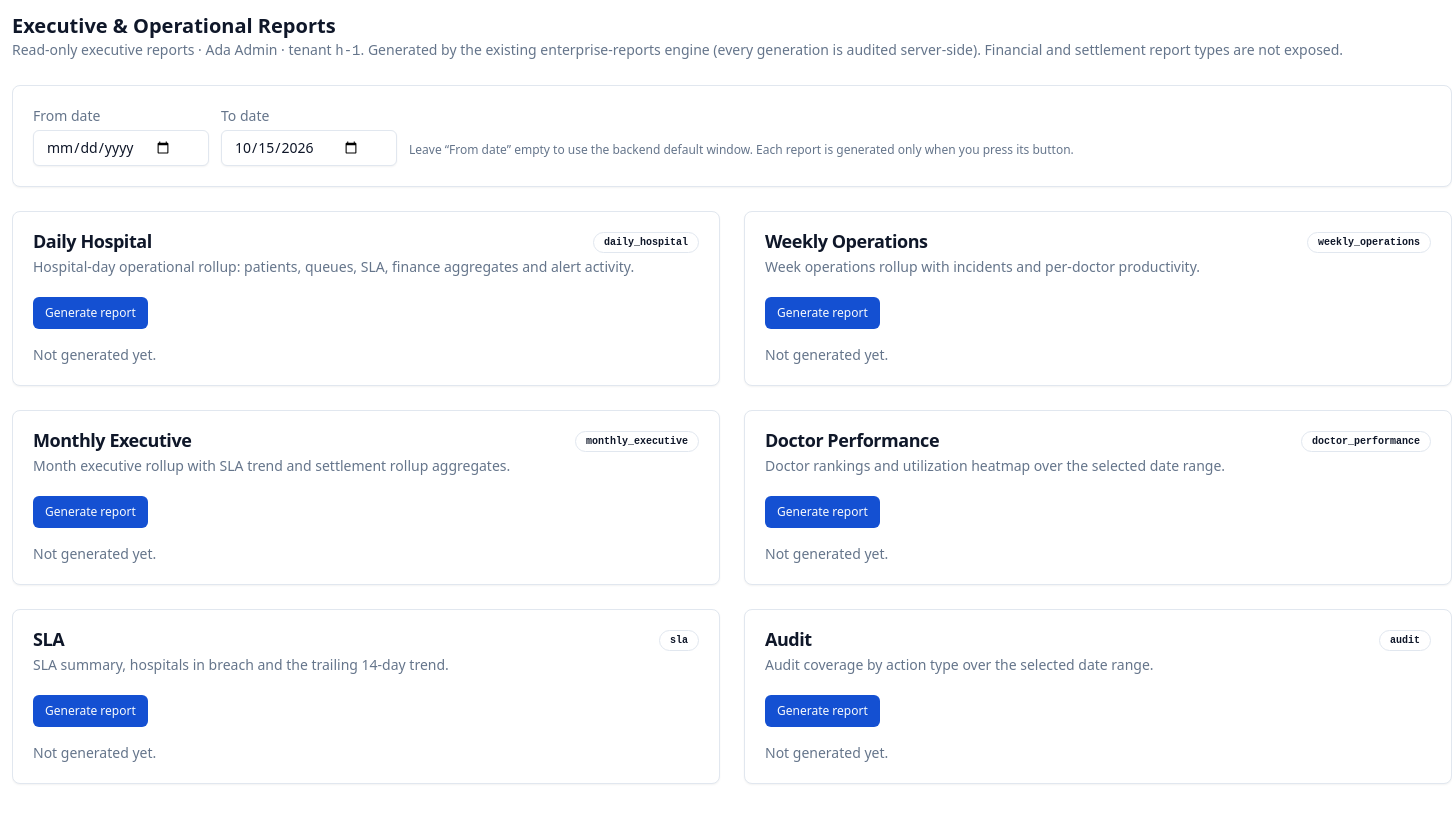
it: AdminReports viewer › an empty data object renders as 'No data', never a false value
The image size is (1452, 822).
Click the button "Generate report" below "Daily Hospital": (90, 313) [33, 297, 148, 329]
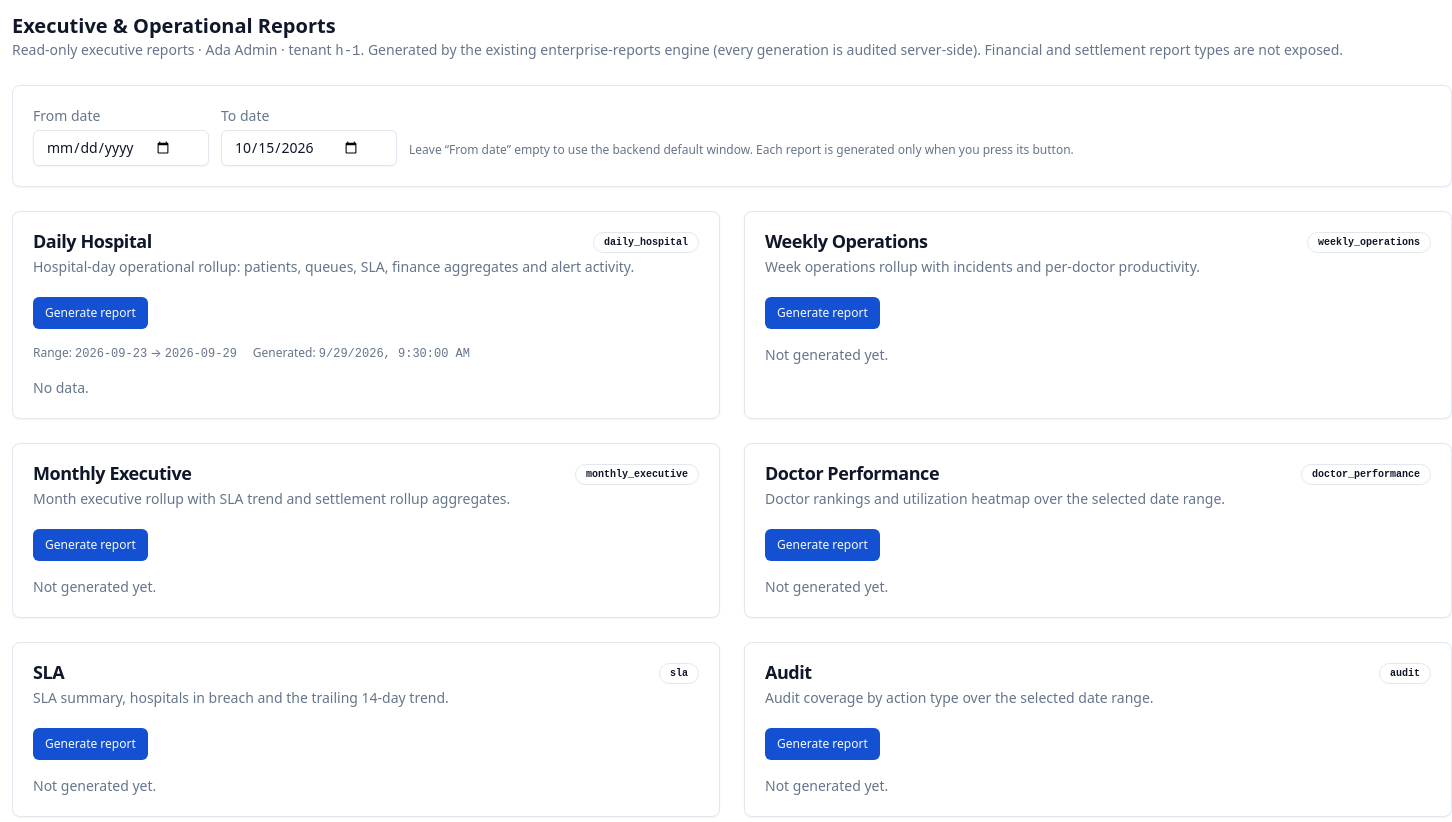
Result: the text "No data." is shown at [33, 378, 89, 397]
